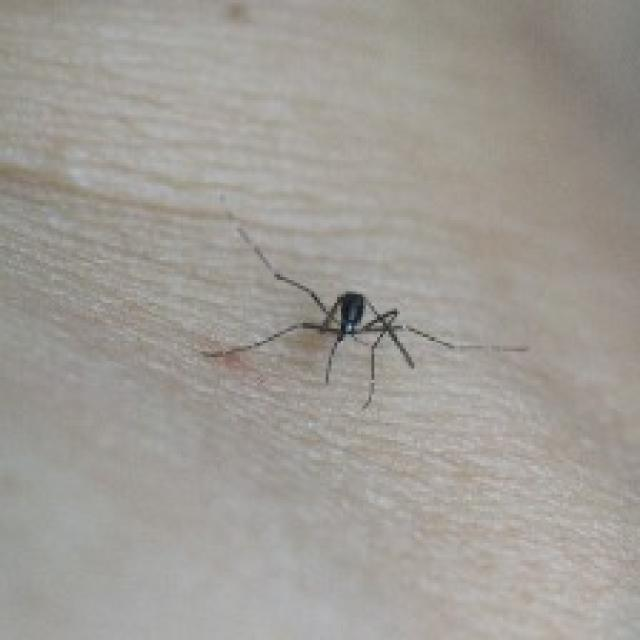aedes: (200, 212, 529, 408)
